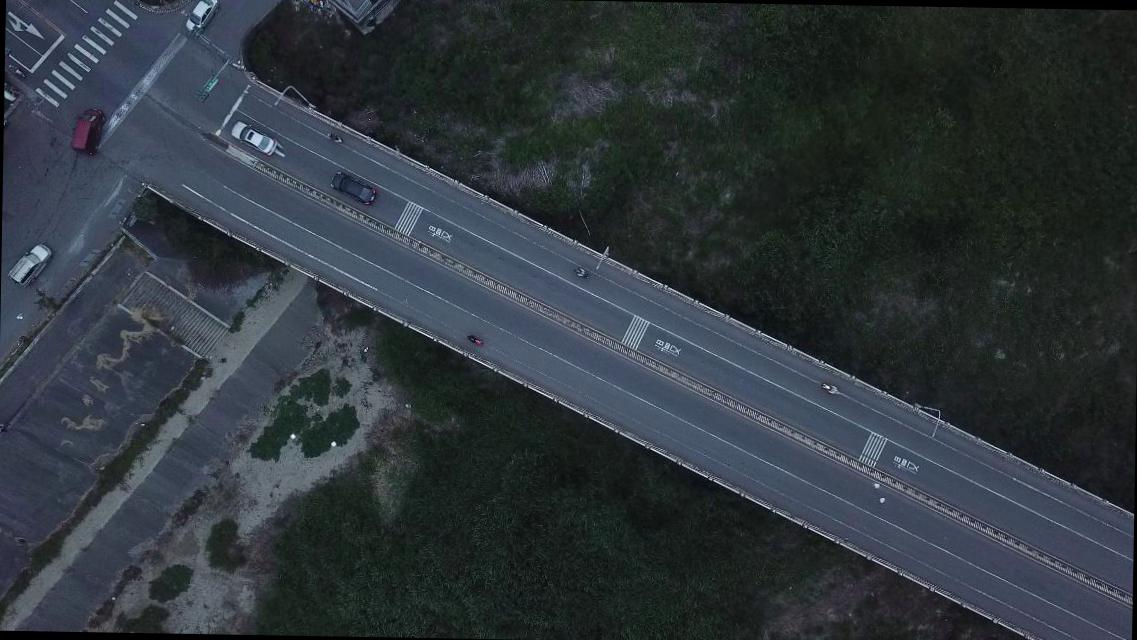vehicle: (9, 241, 50, 287), (230, 118, 278, 156), (329, 170, 377, 207), (70, 107, 102, 157), (184, 0, 222, 35)
